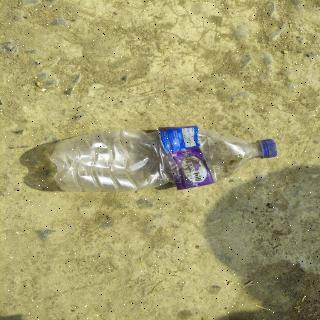Plastic-bottle: (49, 125, 282, 197)
